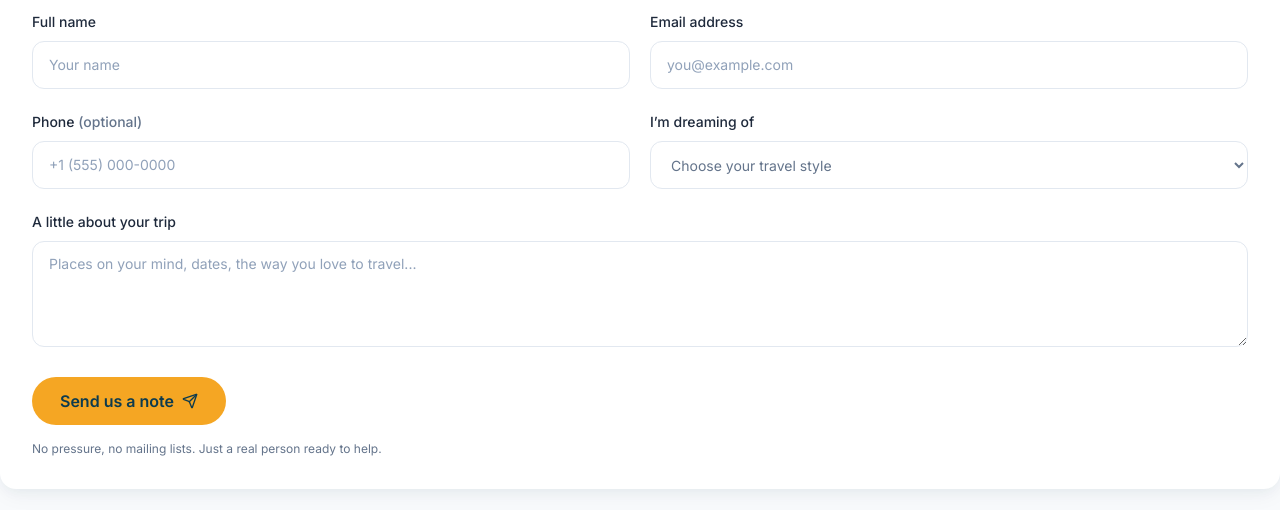
Test case: ContactForm › accepts a valid request and displays success
The image size is (1280, 510).
Type "Alex Morgan" into the field labelled "Full name" at (331, 65), box [32,41,630,89]
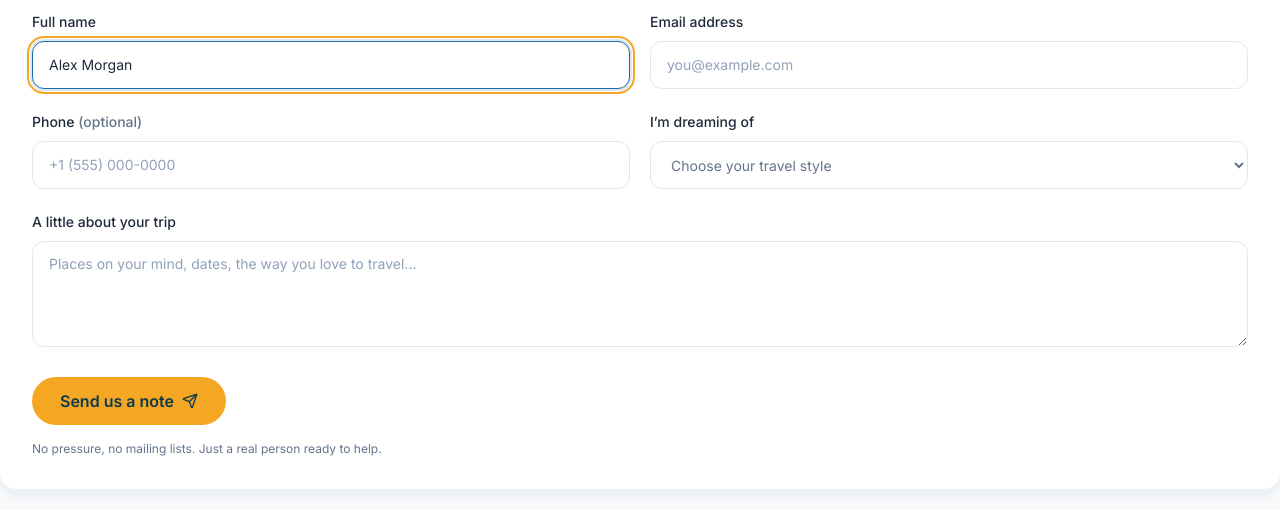
Type "alex@example.com" into the field labelled "Email address" at (949, 65), box [650,41,1248,89]
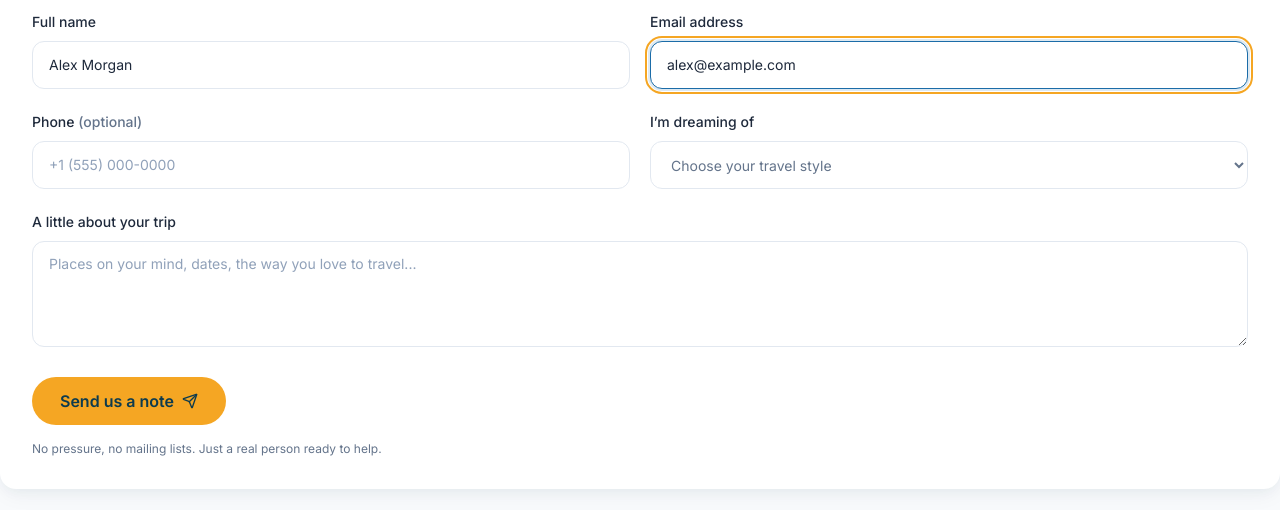
Select "Beach" in the dropdown labelled "I’m dreaming of" at (949, 165), box [650,141,1248,189]
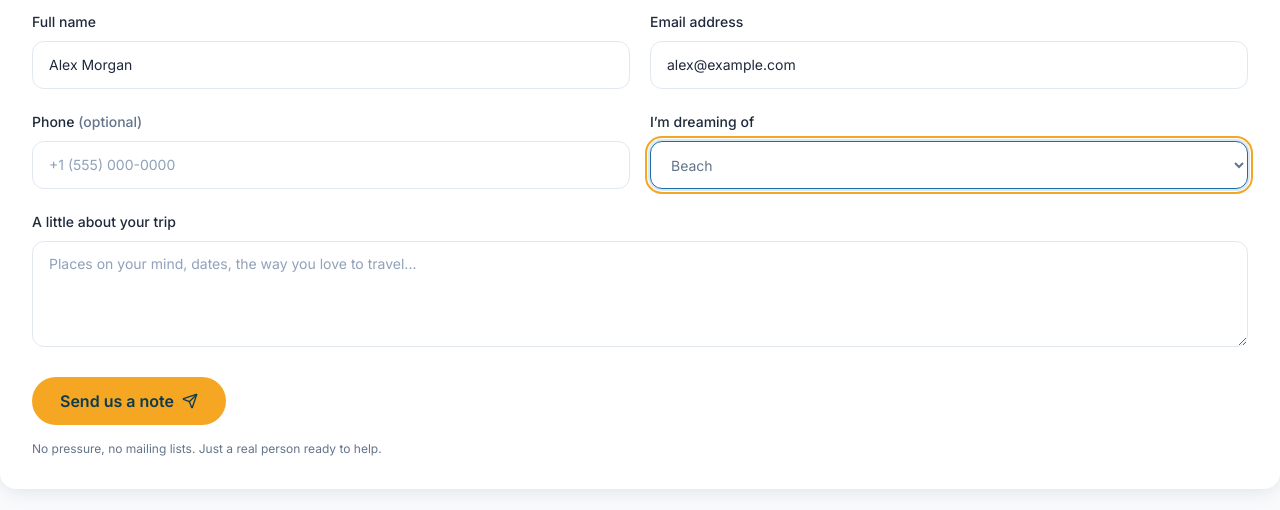
Type "We are hoping to visit the coast this summer." into the text box labelled "A little about your trip" at (640, 294), box [32,241,1248,347]
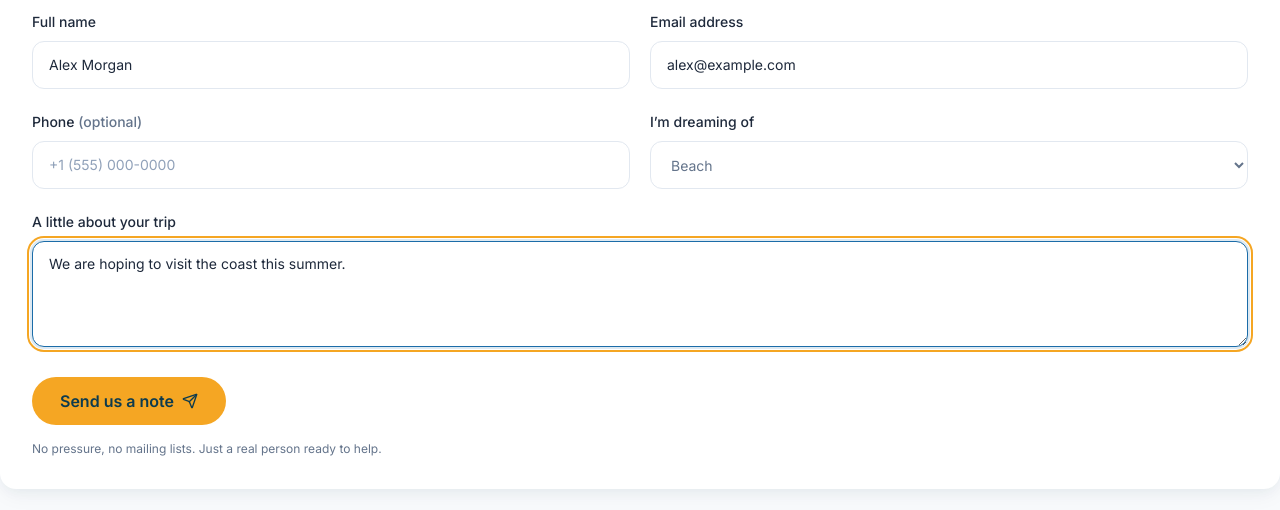
Click the button "Send us a note" at (129, 401), box [32,377,226,425]
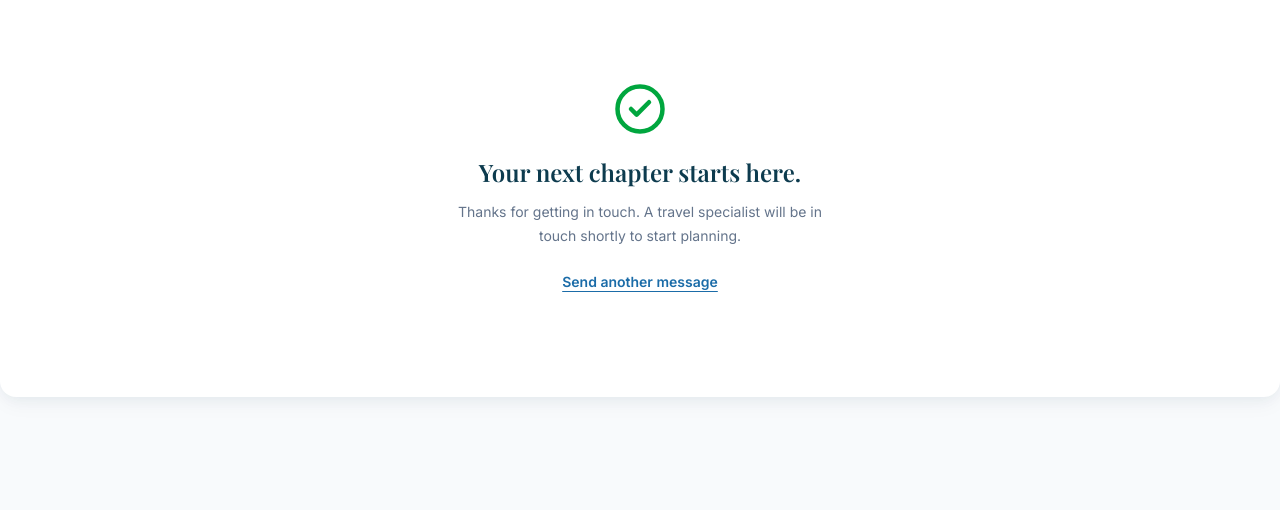
Now the message shows "Your next chapter starts here.", box [479,156,801,188]
